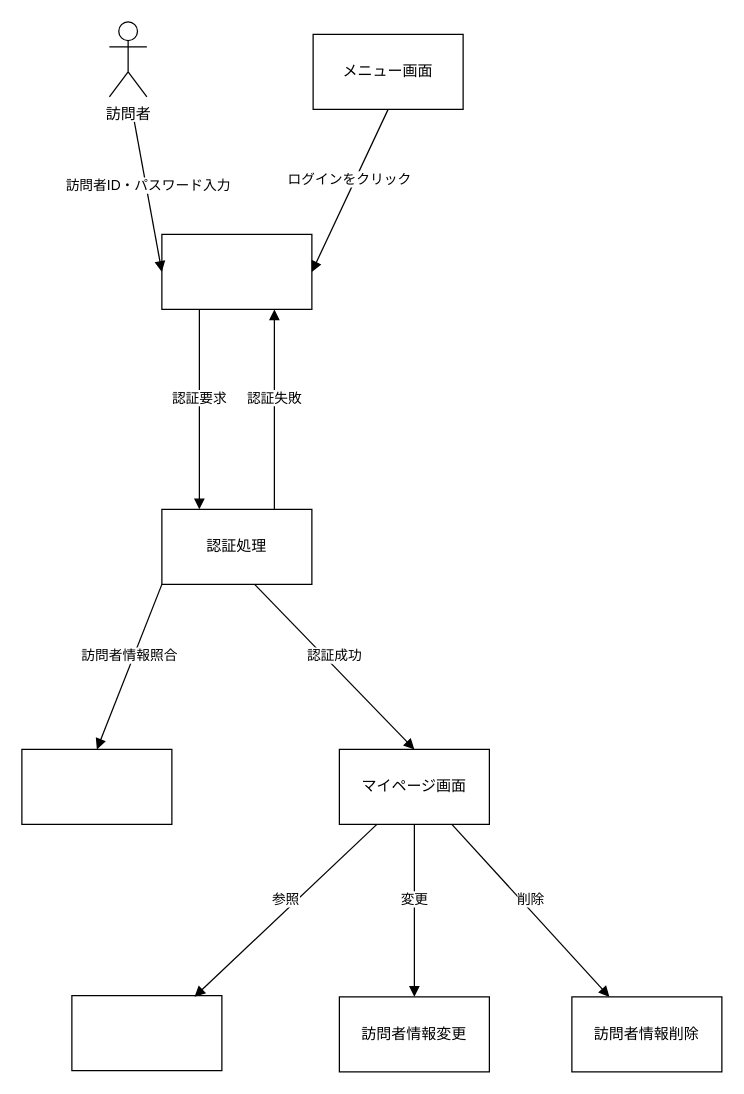
The diagram is 744 pixels wide and 1094 high, and some of its shapes have lost their labels. The centre of each missing label's shape, as x and y in pixels:
"ログイン画面" goes at (x=236, y=271).
"訪問者データ" goes at (x=96, y=786).
"訪問者情報参照" goes at (x=146, y=1032).
